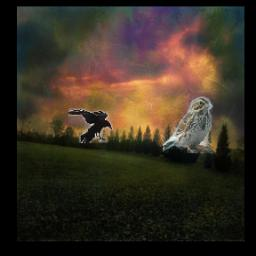Crow: (68, 108, 113, 143)
Sparrow: (162, 96, 212, 153)
